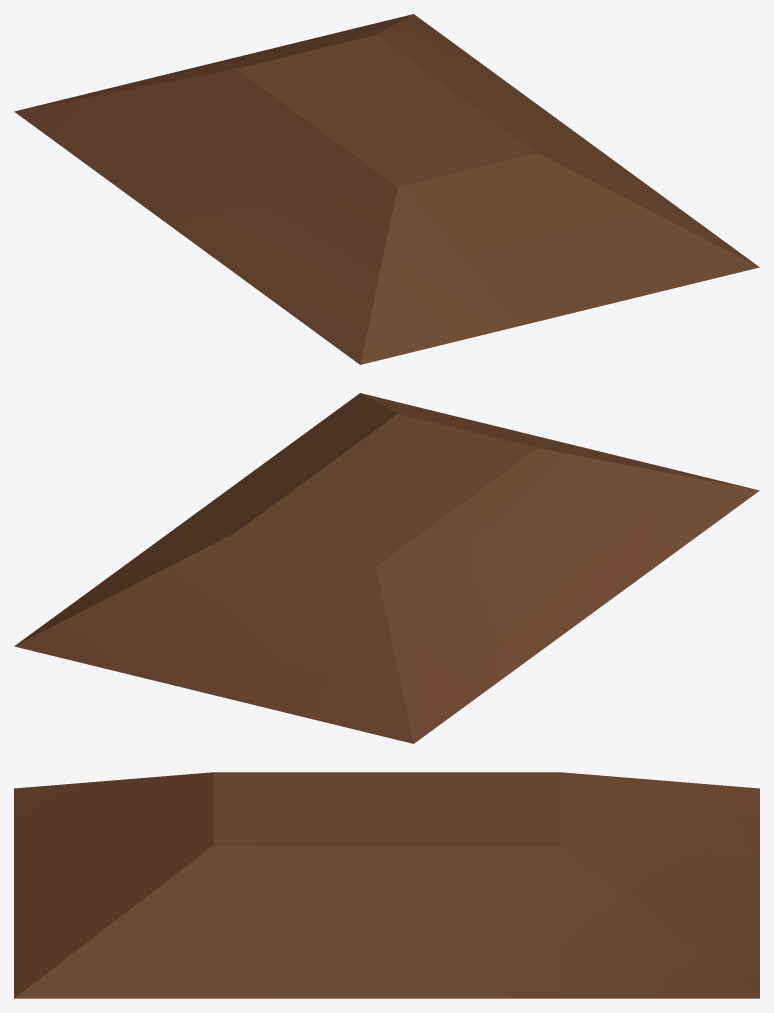
The model's file is SkateboardPyramidRampWide.glb.
3 views of the same model, one above another, from view 1: azimuth 30°, elevation 25°; view 2: azimuth 150°, elevation 25°; view 3: azimuth 270°, elevation 25° (orthographic). The views are drawn at different scales.
Visible parts, largest first — view 1: SkateboardPyramidRampWide; view 2: SkateboardPyramidRampWide; view 3: SkateboardPyramidRampWide.
Part boxes in pixels (x1=…): SkateboardPyramidRampWide: x1=14, y1=14, x2=759, y2=364; SkateboardPyramidRampWide: x1=14, y1=393, x2=759, y2=743; SkateboardPyramidRampWide: x1=14, y1=772, x2=759, y2=998.
Bounding box in the file's own units: 8 × 1.5 × 12.
1 material, 1 textured.
